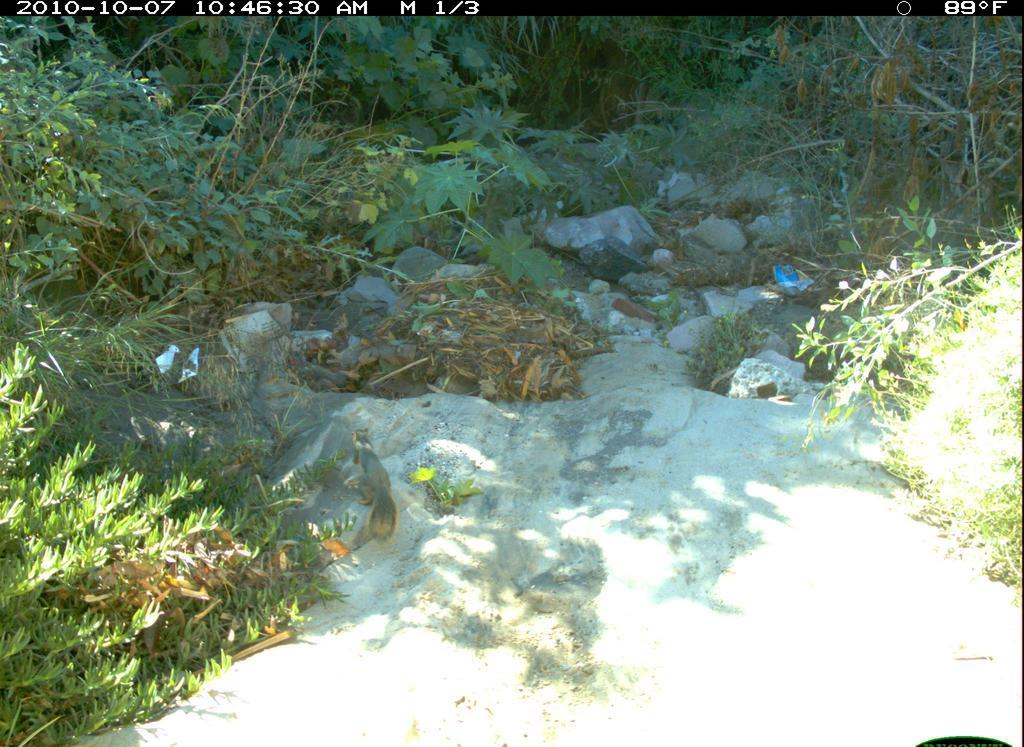squirrel: (344, 423, 405, 547)
